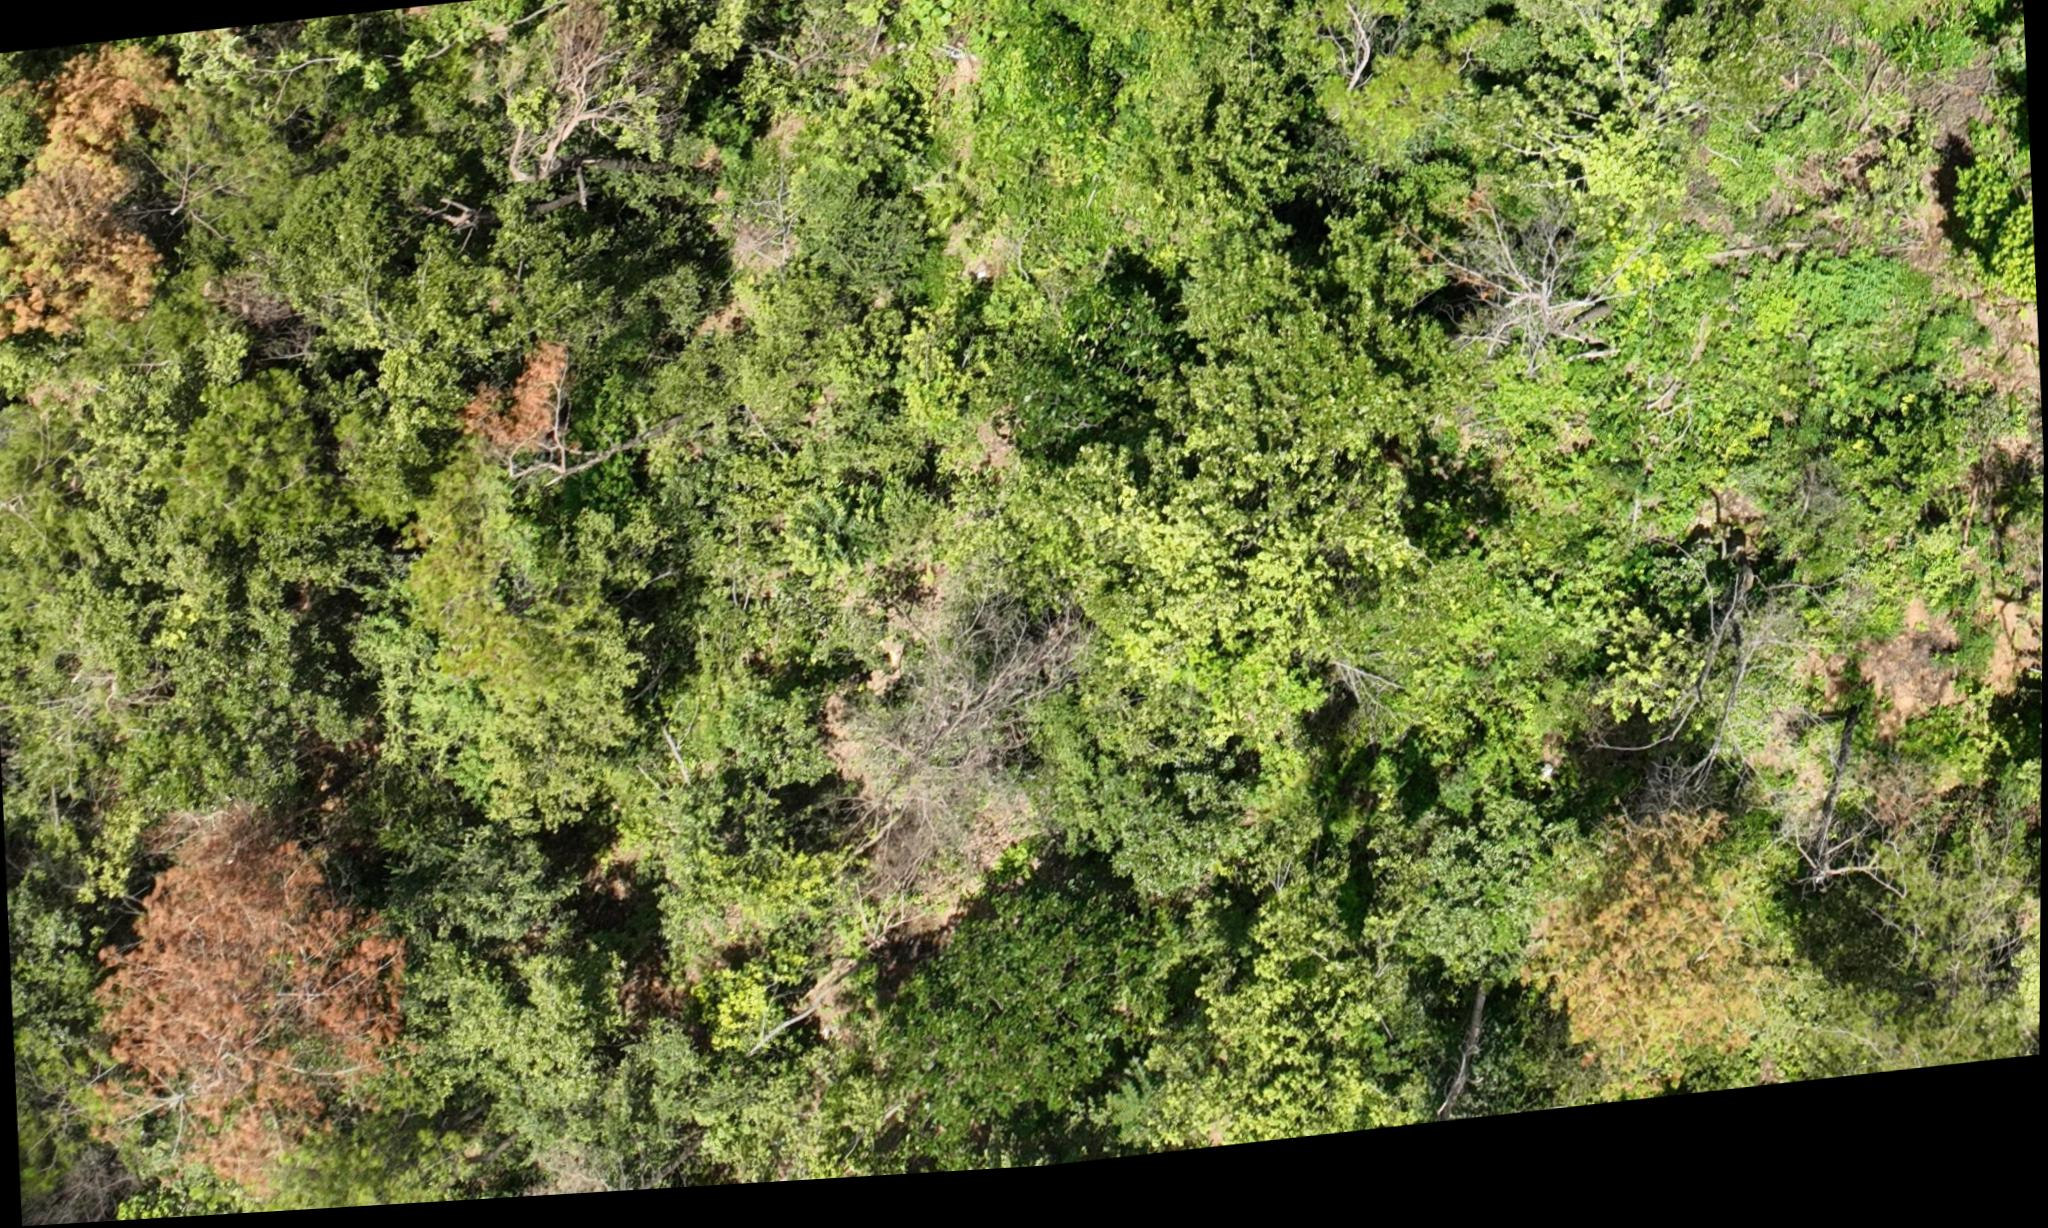dead: (832, 592, 1091, 829), (1440, 224, 1623, 401), (490, 20, 637, 186)
heavy: (80, 811, 415, 1184), (1493, 813, 1779, 1098), (0, 56, 187, 322)
